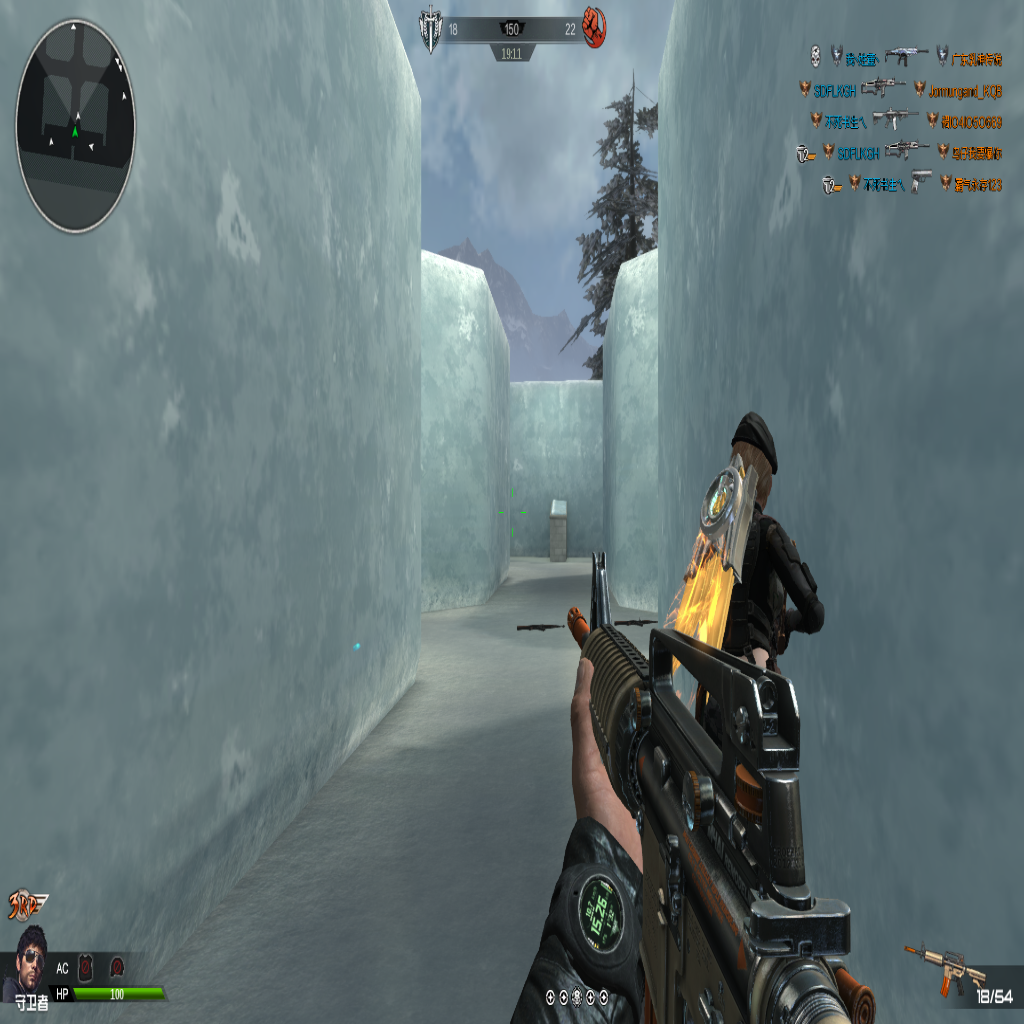ct: (690, 412, 819, 686)
